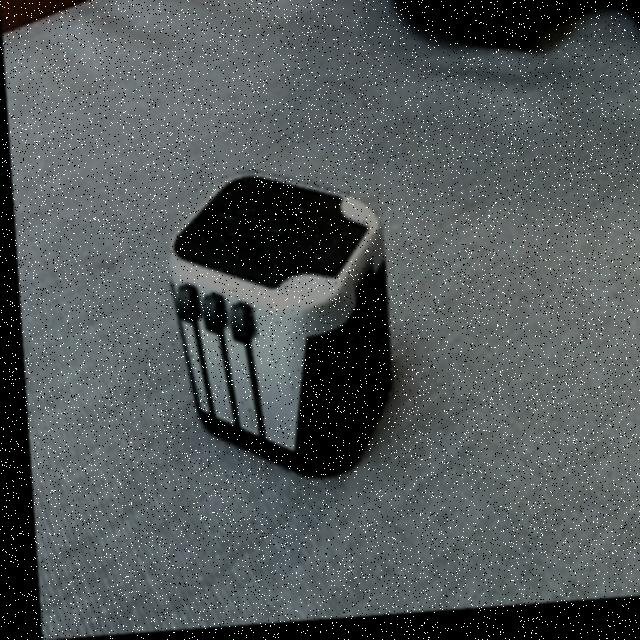adapter: (158, 166, 393, 488)
